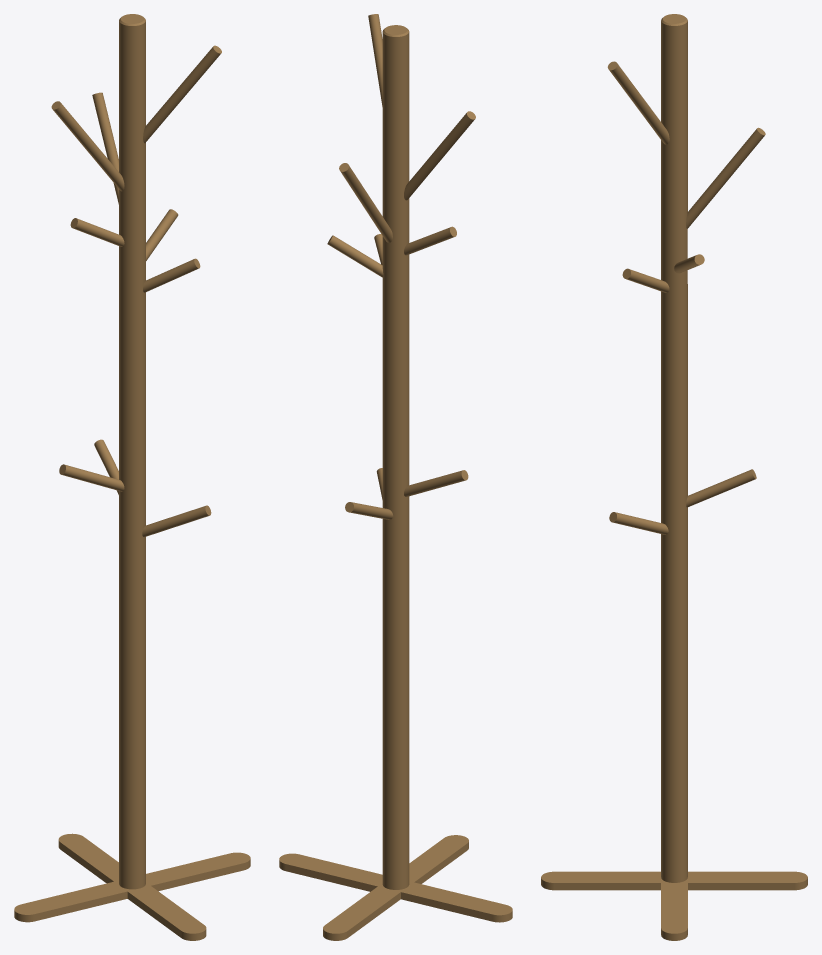
The model's file is 755_pole_hanger.glb.
The picture shows the model from 3 angles, left to right: view 1: azimuth 30°, elevation 25°; view 2: azimuth 150°, elevation 25°; view 3: azimuth 270°, elevation 25°; orthographic projection.
Parts seen in each view (by area): view 1: Body; view 2: Body; view 3: Body.
Boxes of the visible parts, left/top/right/bottom form: Body: left=14, top=14, right=250, bottom=940; Body: left=279, top=14, right=512, bottom=940; Body: left=541, top=14, right=807, bottom=940.
Size of the model in its own units: 0.5 by 1.79 by 0.5.
